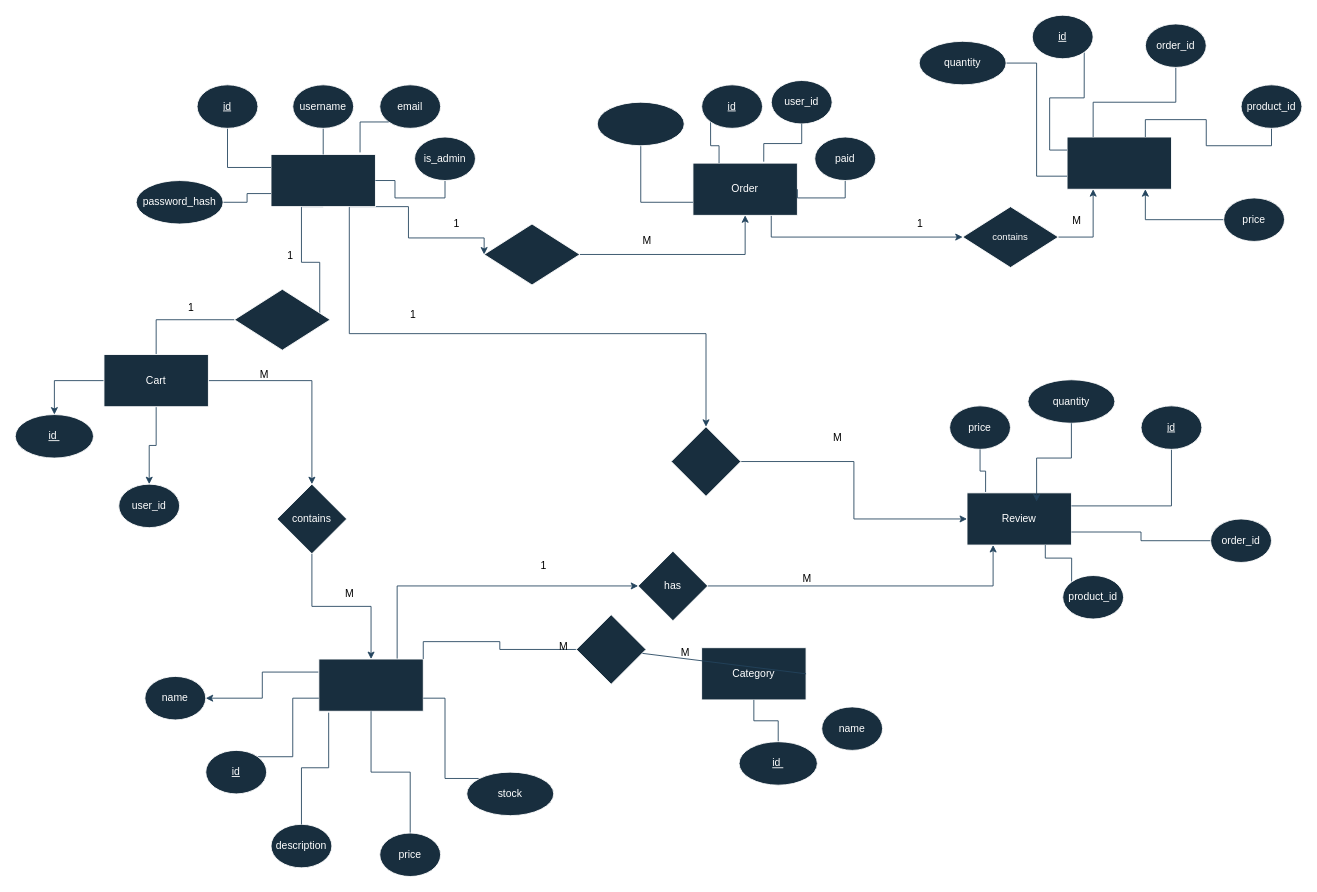
The diagram is 1317 pixels wide and 892 high, and some of its shapes have lost their labels. The centre of each missing label's shape, as x and y in pixels:
"Belongs" goes at point 611,649.
"OrderItem" goes at point 1118,162.
"owns" goes at point 282,319.
"places" goes at point 531,254.
"Product" goes at point 370,684.
"total_amount" goes at point 640,123.
"User" goes at point 322,180.
"writes" goes at point 705,461.
